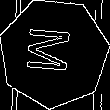M_E: (27, 28, 81, 78)
